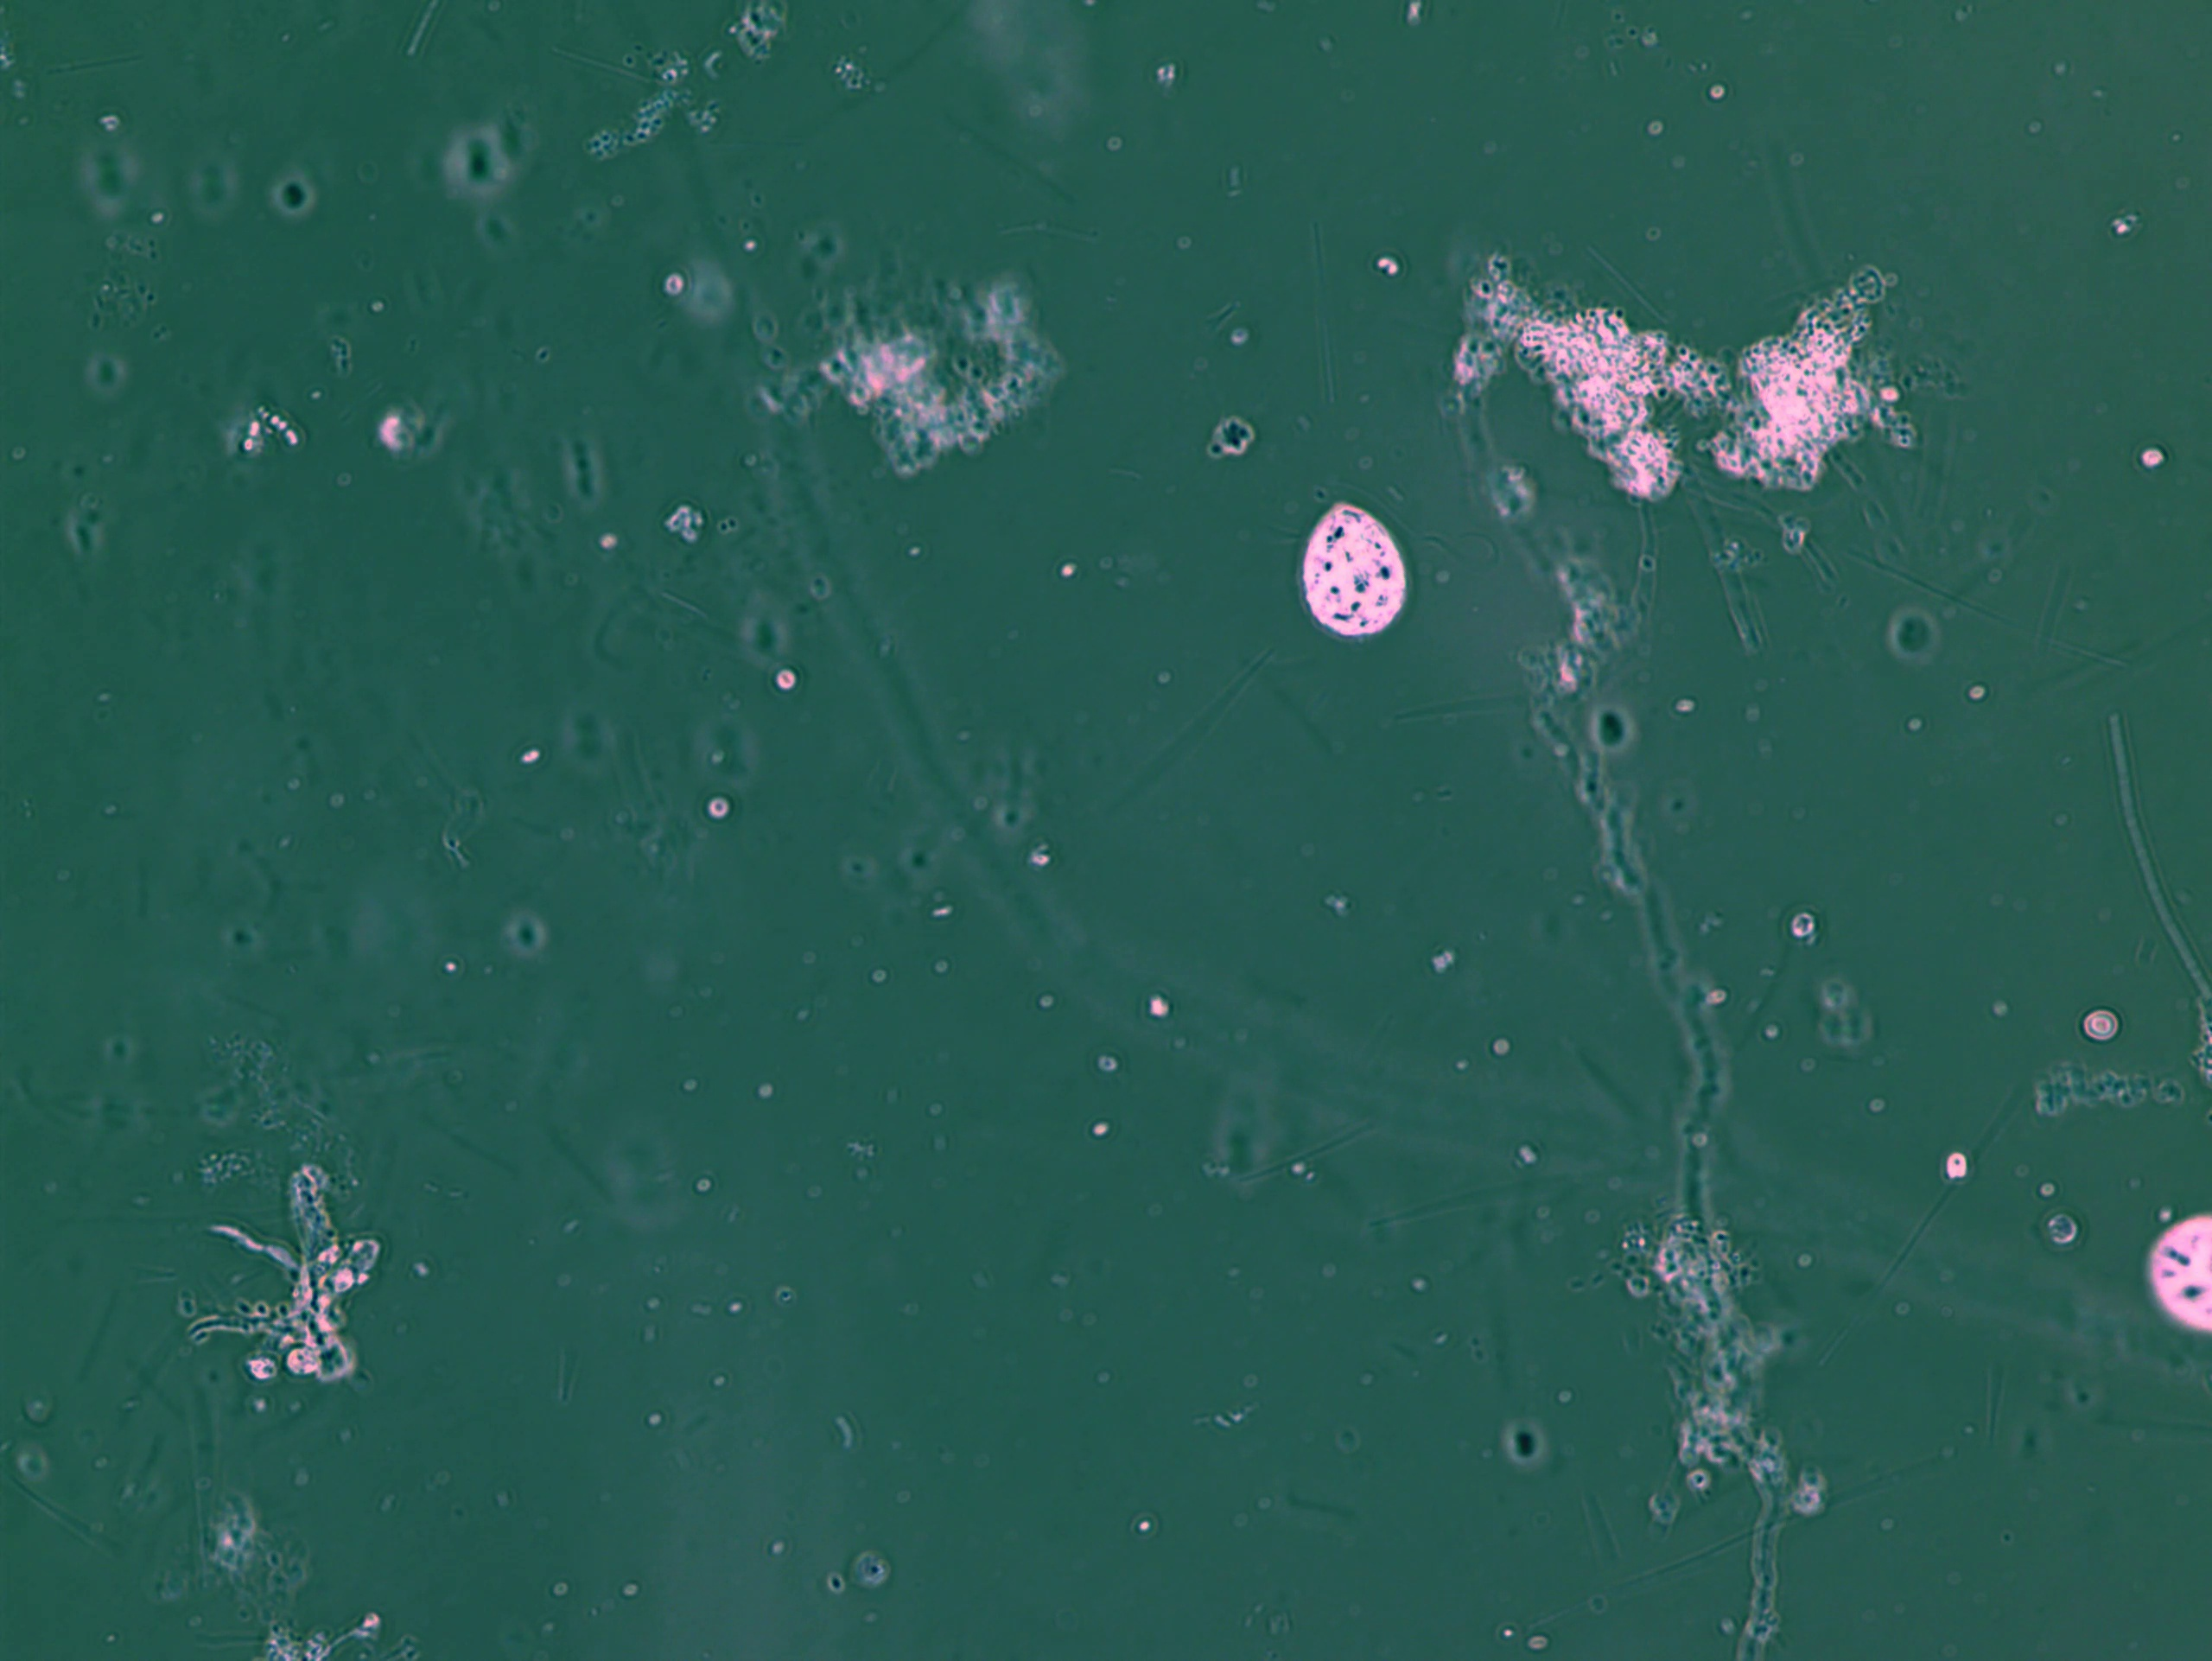depth:0: (1282, 471, 1430, 658)
